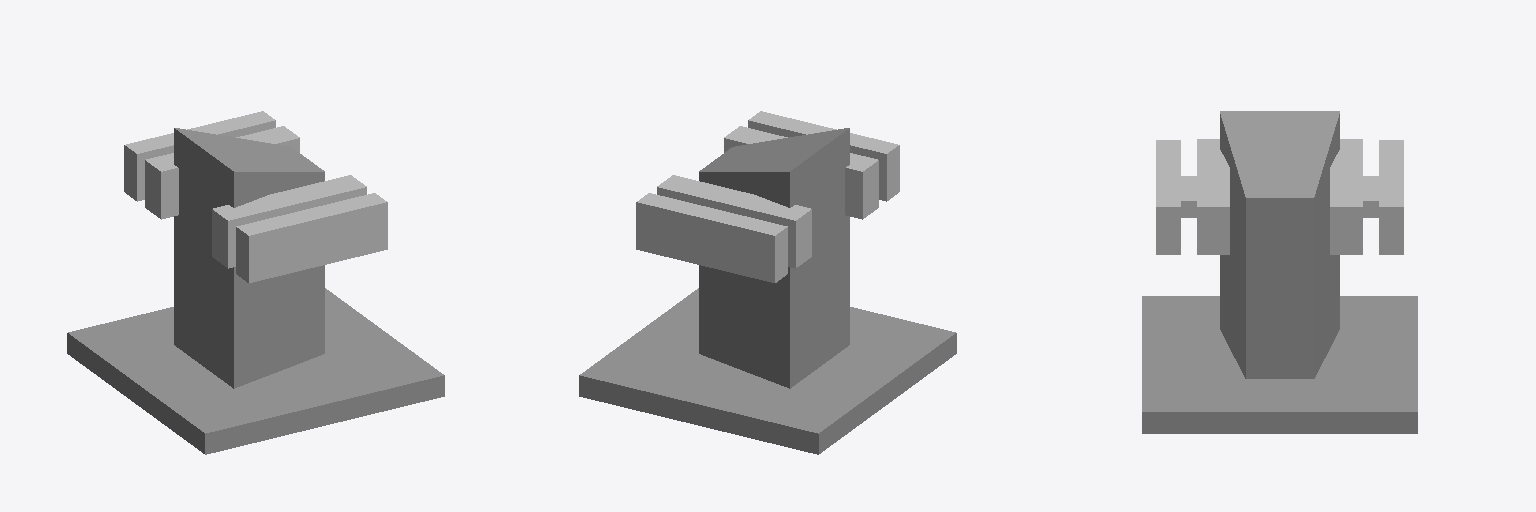
File: weapon_macgun1.obj
3 views of the same model, side by side, from view 1: azimuth 30°, elevation 25°; view 2: azimuth 150°, elevation 25°; view 3: azimuth 270°, elevation 25° (orthographic).
Visible parts, largest first — view 1: Cube.001, Cube.002; view 2: Cube.001, Cube.002; view 3: Cube.001, Cube.002.
Boxes of the visible parts, box(x1,y1,x2,y2) form: Cube.001: box(67, 128, 444, 454); Cube.002: box(124, 111, 387, 282); Cube.001: box(579, 128, 956, 454); Cube.002: box(636, 111, 899, 282); Cube.001: box(1142, 111, 1417, 433); Cube.002: box(1156, 139, 1403, 254).
Size of the model in its own units: 2 by 1.9 by 2.